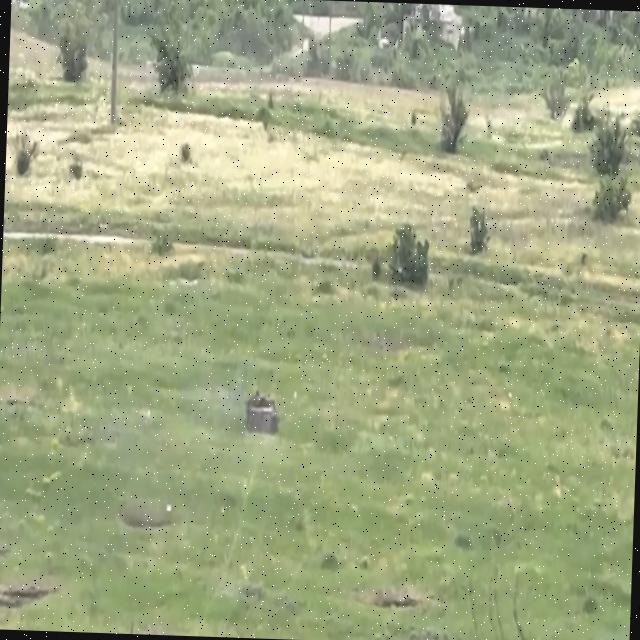AIFV: (244, 388, 282, 437)
